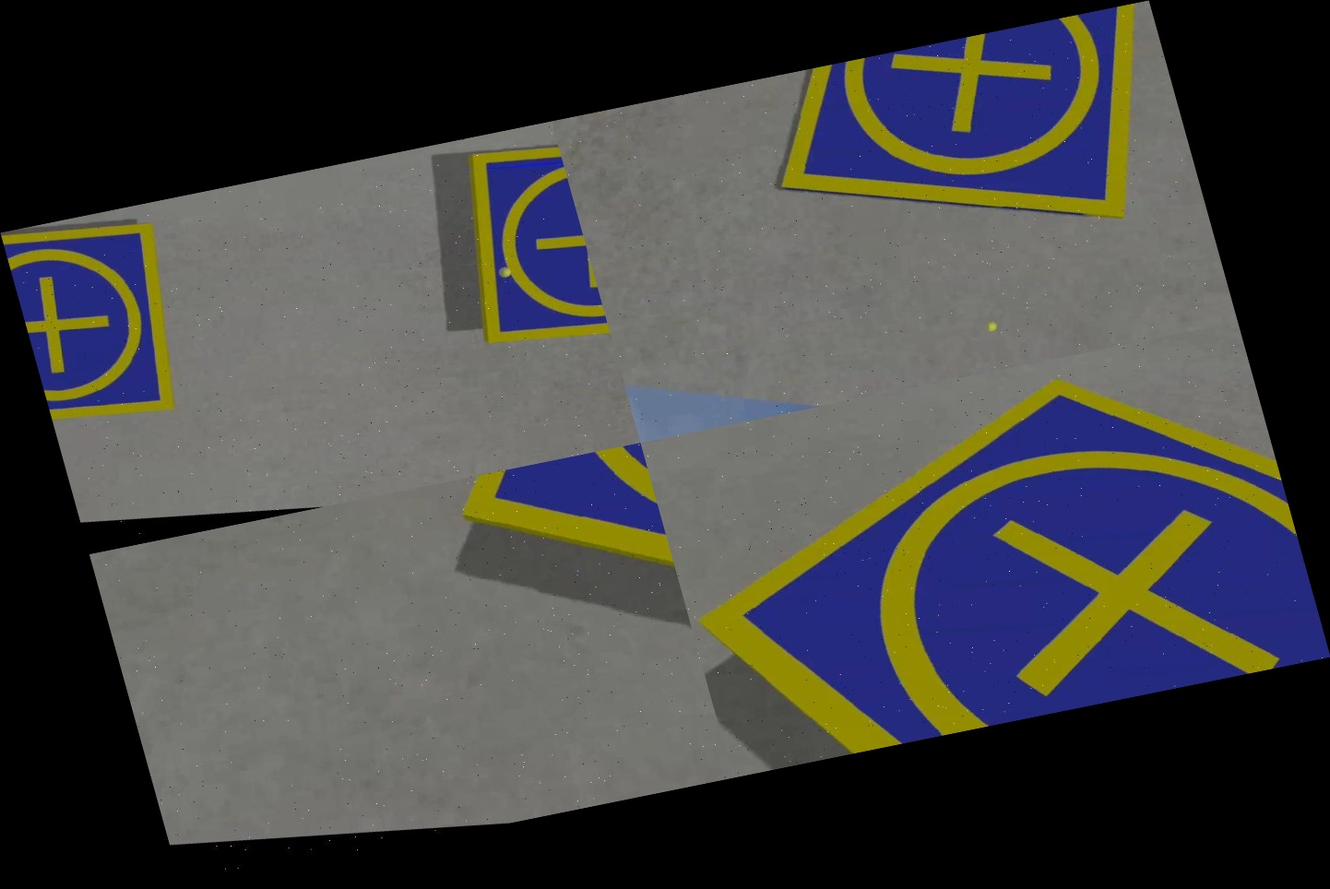small_base: (640, 322, 1330, 776), (740, 0, 1206, 292), (422, 443, 712, 745), (0, 202, 209, 438), (433, 133, 614, 373)
